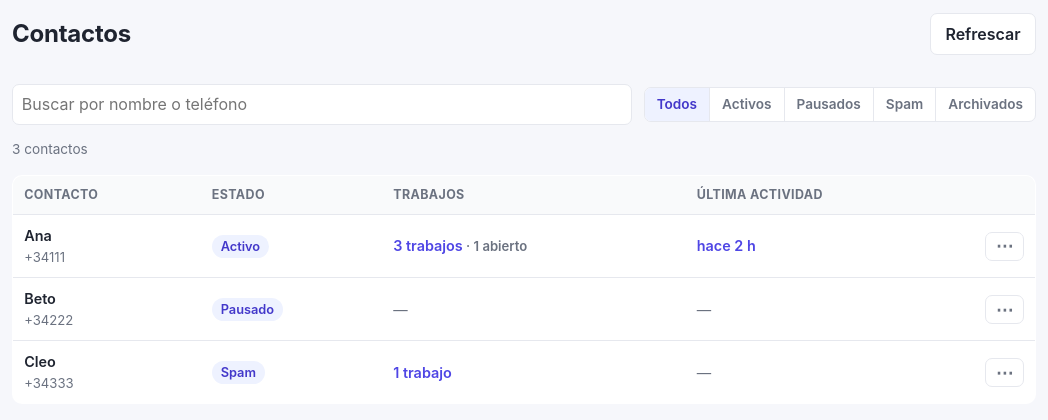
Scenario: las acciones secundarias viven en el menú de la fila, no sueltas
The image size is (1048, 420).
Expected: the text "Ana" is shown, [24,227,52,244]
Expected: the button "Eliminar…" is not shown
Click the button "⋯" in the row of "Ana": (1004, 246) [985,232,1024,261]
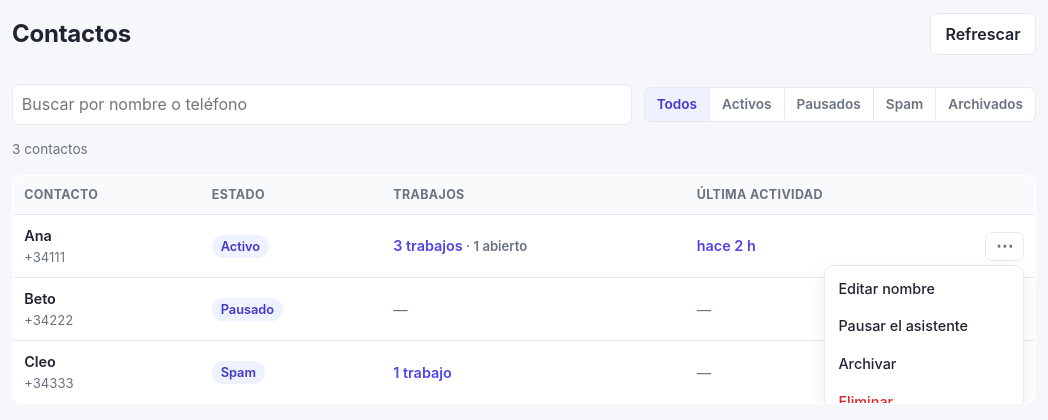
Expected: the menu item "Editar nombre" is shown, [829,270,1019,307]
Expected: the menu item "Pausar el asistente" is shown, [829,308,1019,345]
Expected: the menu item "Archivar" is shown, [829,345,1019,383]
